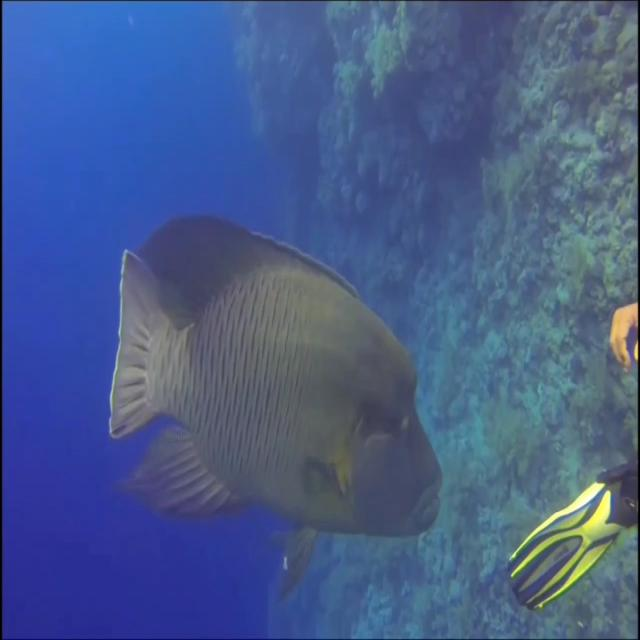Napoleon -Endangered-: (110, 218, 444, 602)
